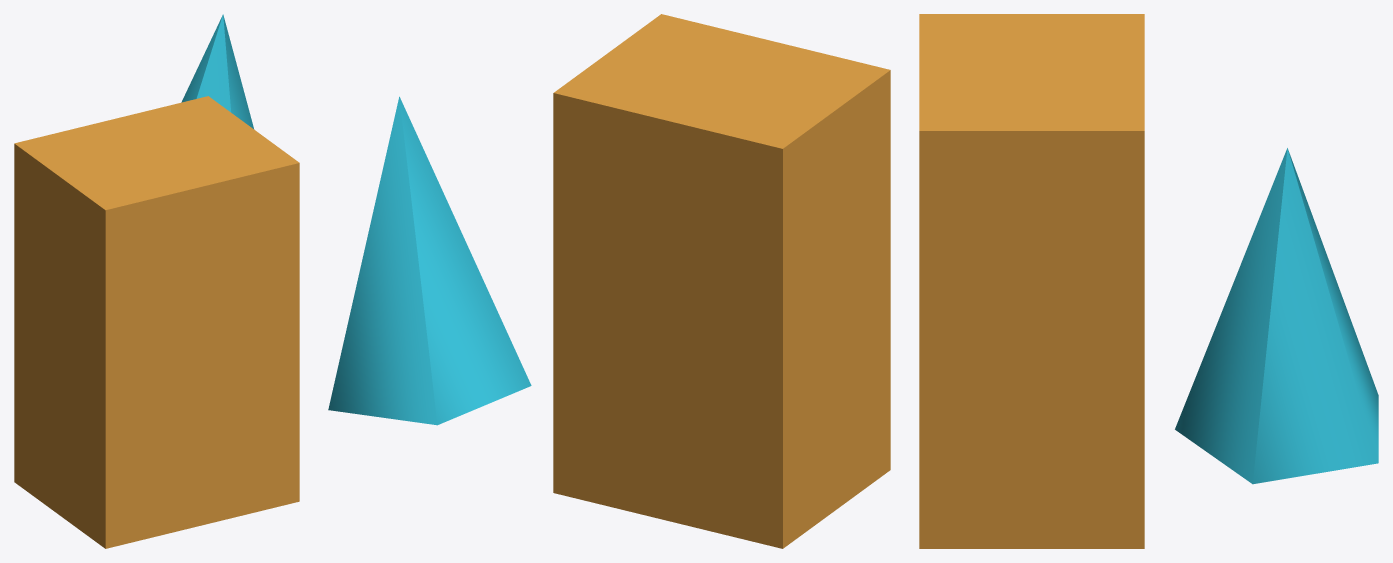
The model's file is frame-07.glb.
The picture shows the model from 3 angles, left to right: view 1: azimuth 30°, elevation 25°; view 2: azimuth 150°, elevation 25°; view 3: azimuth 270°, elevation 25°; orthographic projection. The views are drawn at different scales.
Bounding box in the file's own units: 0.4431 × 0.4792 × 0.4483.
